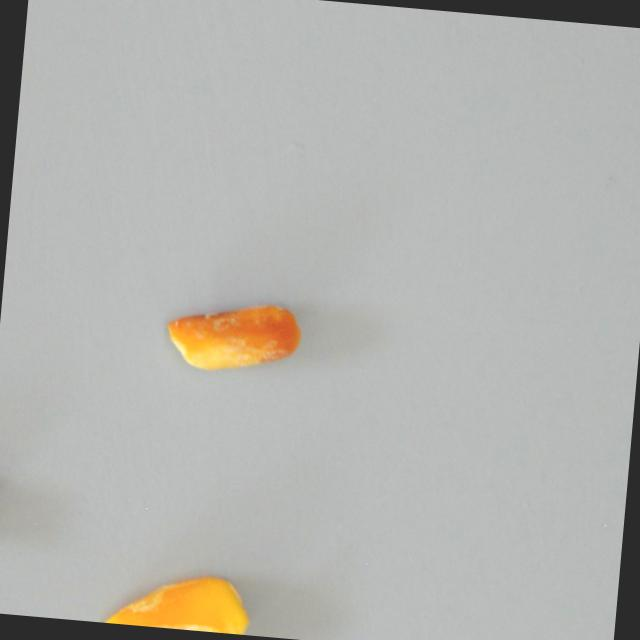dañado: (157, 291, 306, 387), (100, 562, 255, 635)
